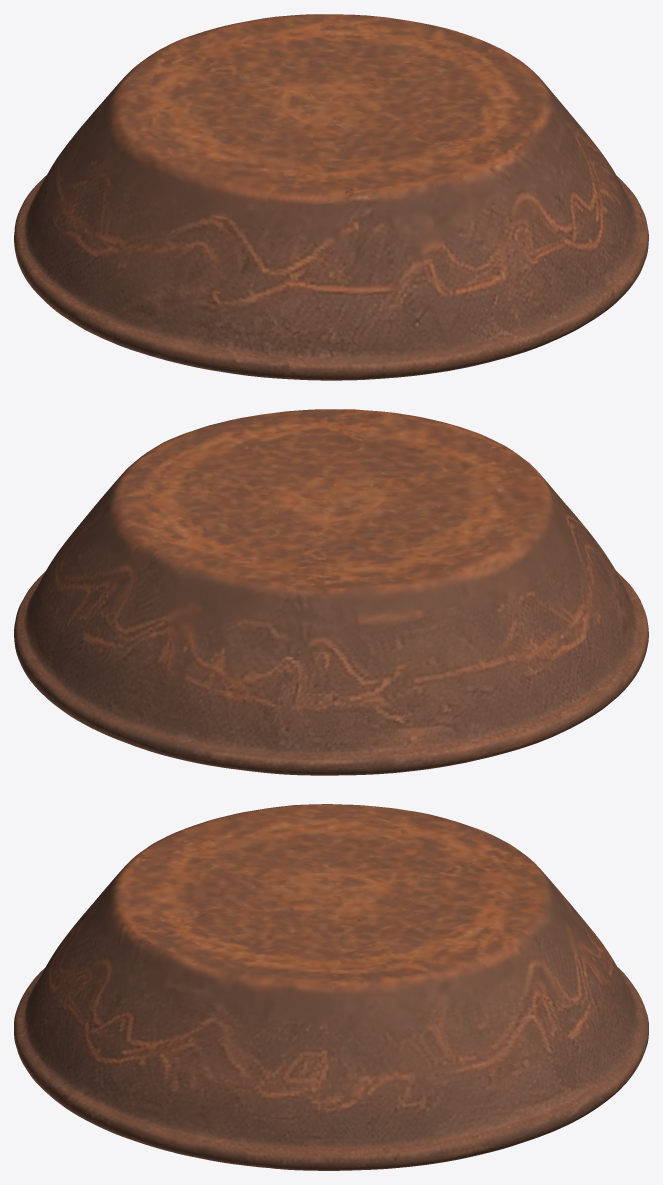
File: jar_lid.glb
3 renders of one model, top to bottom at view 1: azimuth 30°, elevation 25°; view 2: azimuth 150°, elevation 25°; view 3: azimuth 270°, elevation 25°, orthographic.
Size of the model in its own units: 1.9 by 0.4896 by 1.9.
Materials: 1 (1 with a texture image).
